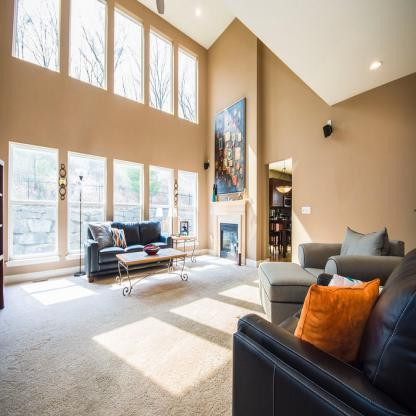light: (57, 162, 69, 207), (360, 59, 387, 79)
sofa: (228, 245, 416, 416), (240, 223, 416, 323), (77, 215, 175, 281)
table: (111, 243, 193, 310)
